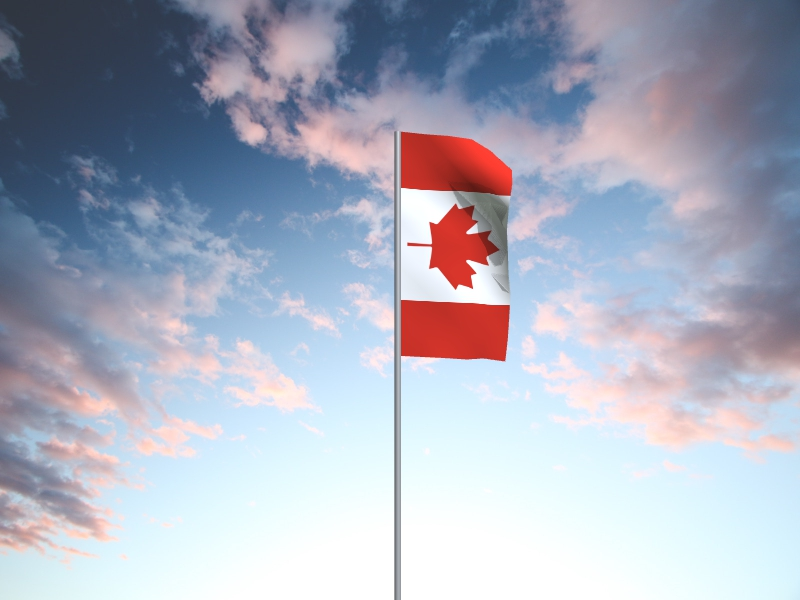ca: (402, 132, 515, 363)
